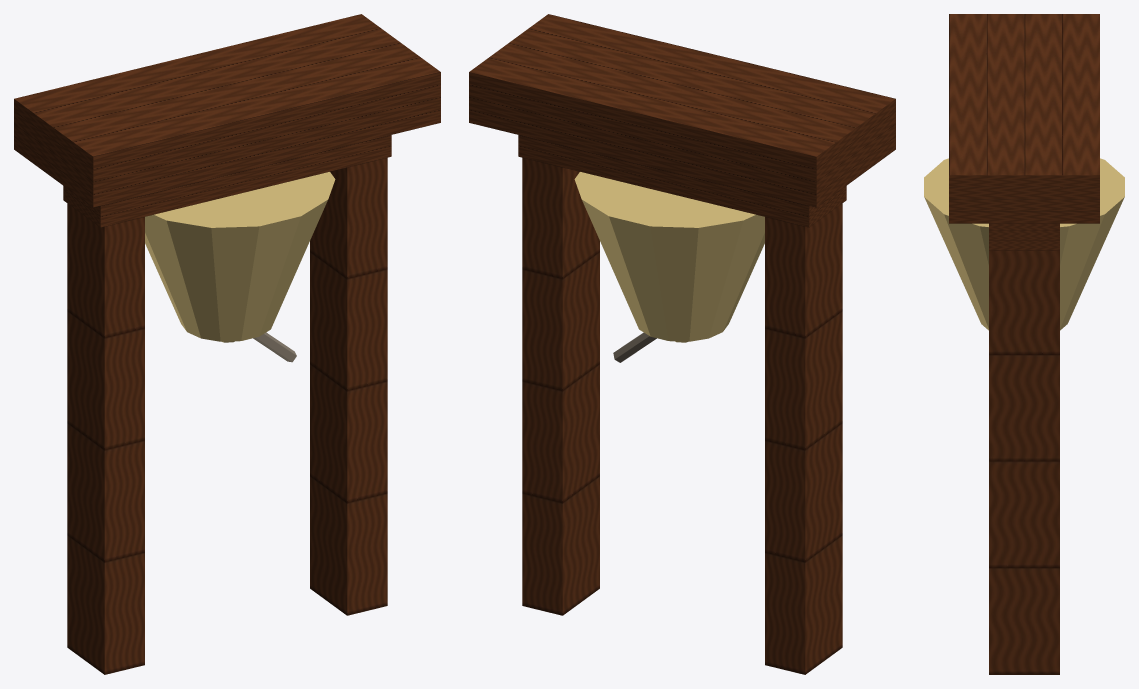
The model's file is pirate-port-and-tall-ships-ships-bell-c39ab72a__30161.glb.
3 views of the same model, side by side, from view 1: azimuth 30°, elevation 25°; view 2: azimuth 150°, elevation 25°; view 3: azimuth 270°, elevation 25° (orthographic). The views are drawn at different scales.
Visible parts, largest first — view 1: ships-bell, bell/brass; view 2: ships-bell, bell/brass; view 3: ships-bell, bell/brass.
Boxes of the visible parts, <box> form: ships-bell: <box>14,14,440,674</box>; bell/brass: <box>145,172,335,342</box>; ships-bell: <box>469,14,895,674</box>; bell/brass: <box>574,172,764,342</box>; ships-bell: <box>949,14,1099,674</box>; bell/brass: <box>924,158,1124,330</box>.
Bounding box in the file's own units: 0.8599 × 1.28 × 0.4524.
Materials: 3 (1 with a texture image).
